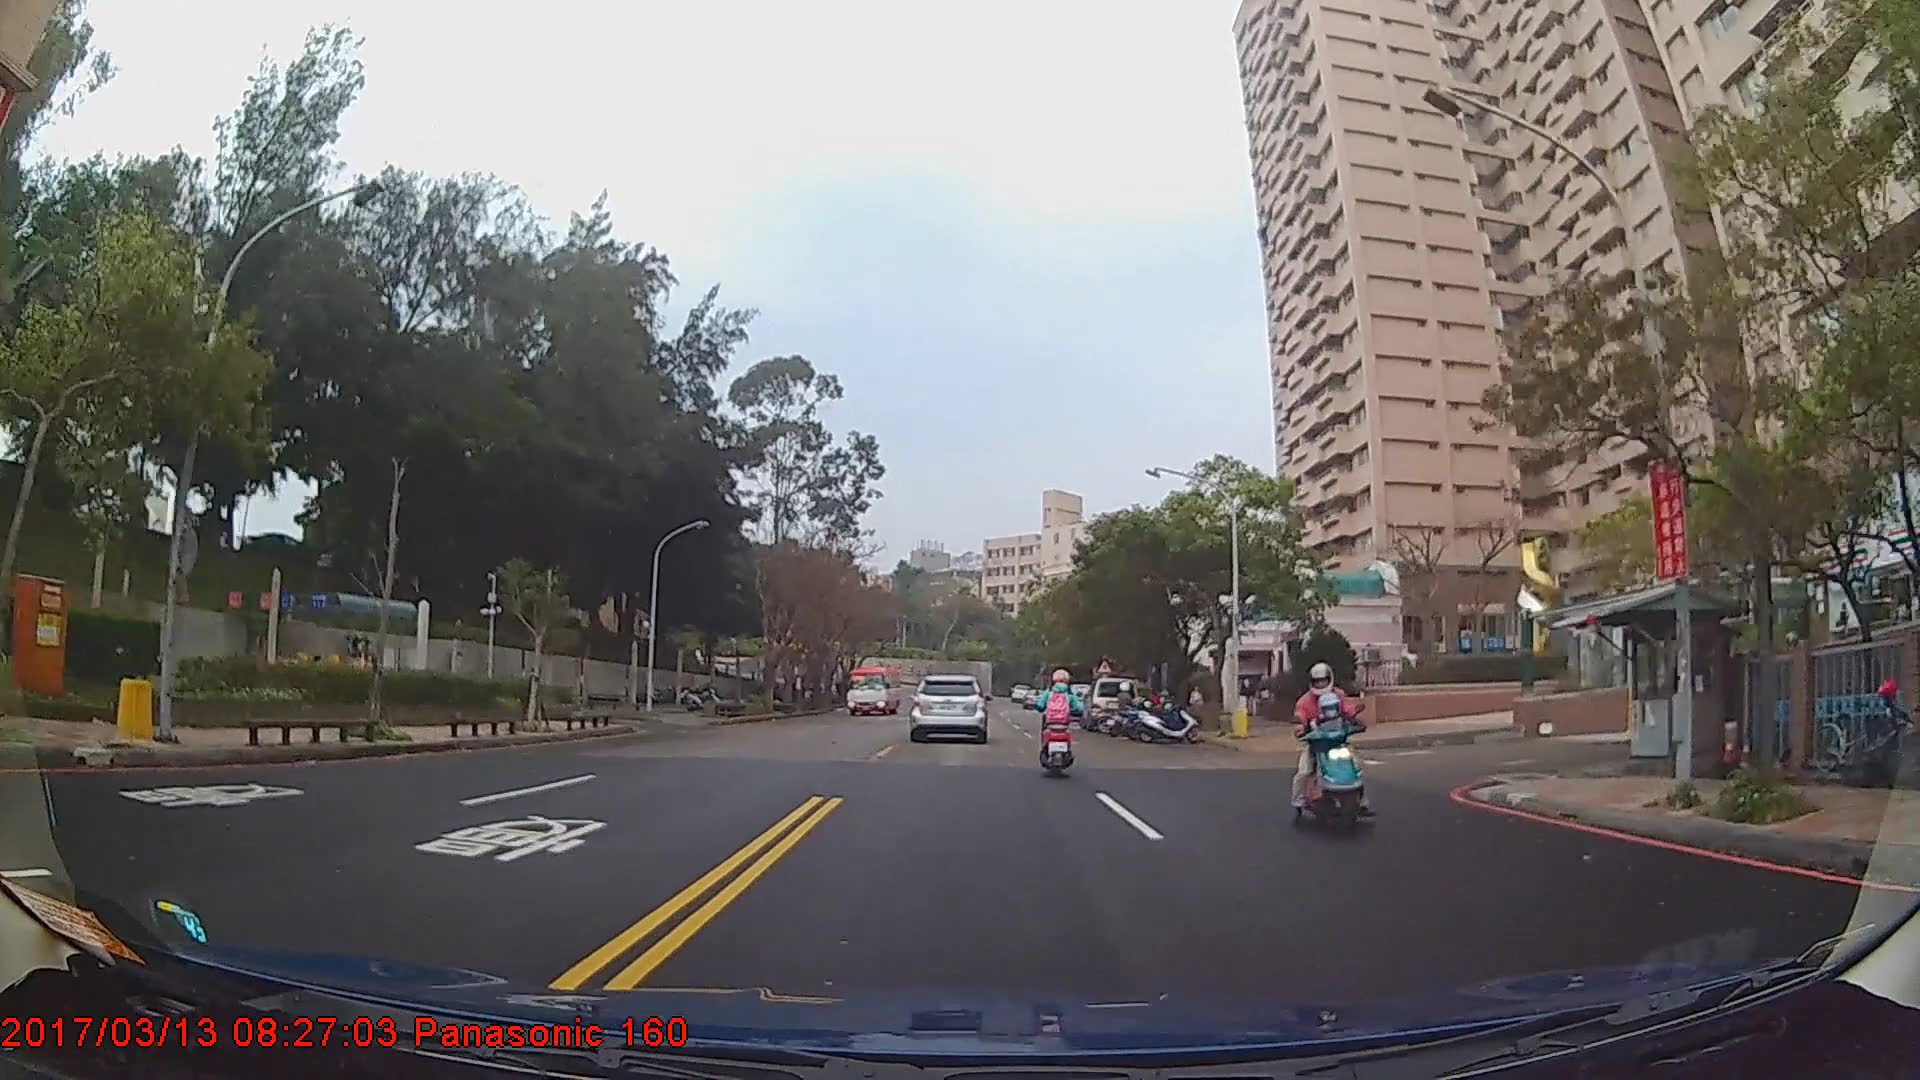rider: (1294, 667, 1373, 833), (1036, 667, 1081, 783), (1106, 685, 1144, 742)
vehicle: (911, 672, 989, 747), (1080, 676, 1137, 731), (844, 664, 902, 717)
